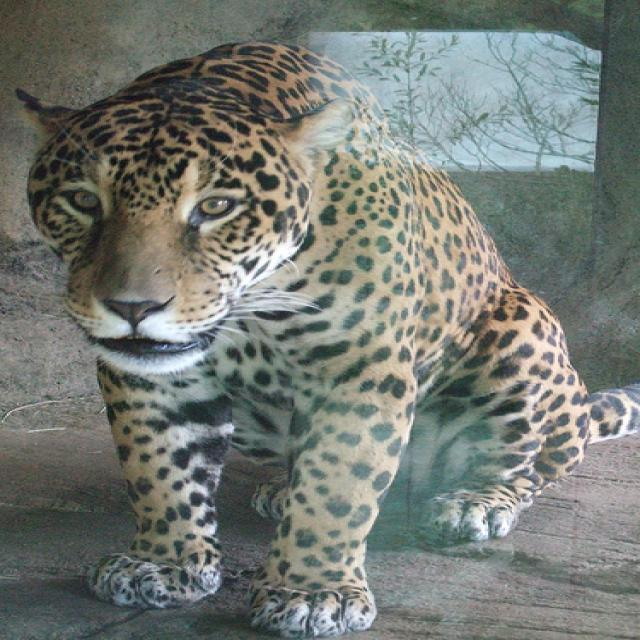Leopard: (7, 37, 633, 634)
